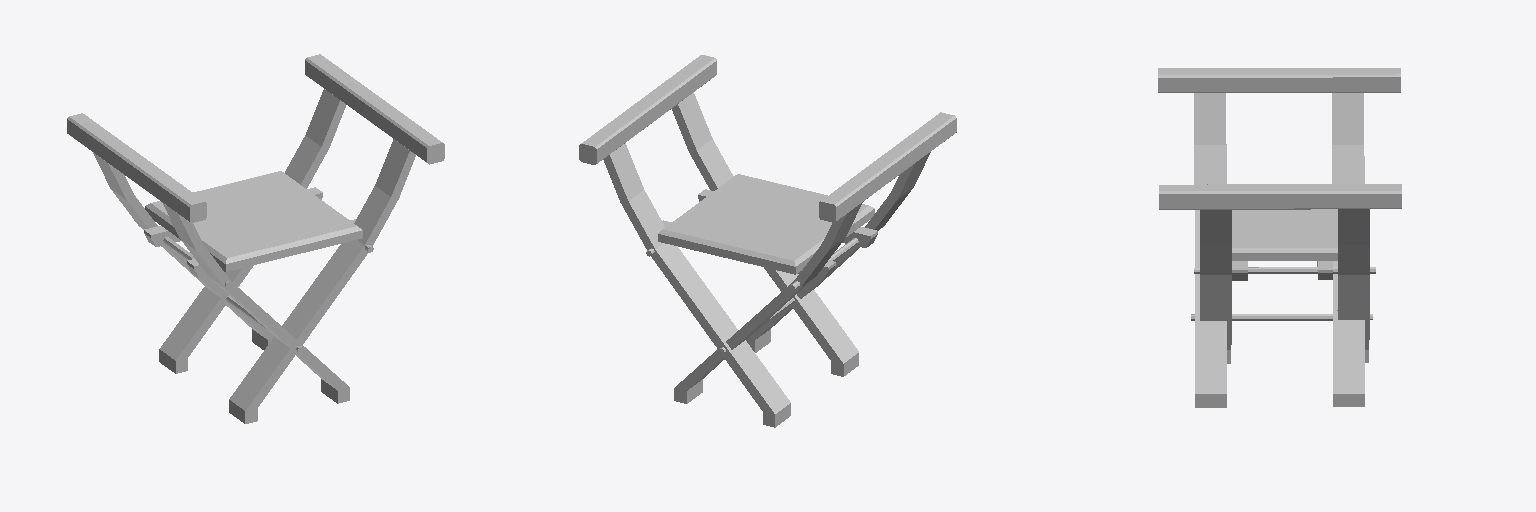
Rendered from chair2.obj.
The picture shows the model from 3 angles: view 1: azimuth 30°, elevation 25°; view 2: azimuth 150°, elevation 25°; view 3: azimuth 270°, elevation 25°; orthographic projection.
Visible parts, largest first — view 1: Medieval_X_Chair; view 2: Medieval_X_Chair; view 3: Medieval_X_Chair.
Boxes of the visible parts, <box> form: Medieval_X_Chair: <box>67,54,444,423</box>; Medieval_X_Chair: <box>579,55,956,427</box>; Medieval_X_Chair: <box>1158,68,1401,407</box>.
Bounding box in the file's own units: 0.7616 × 0.7149 × 0.6266.